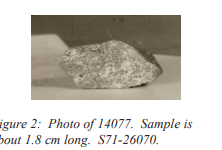Basalt: (54, 27, 169, 91)
